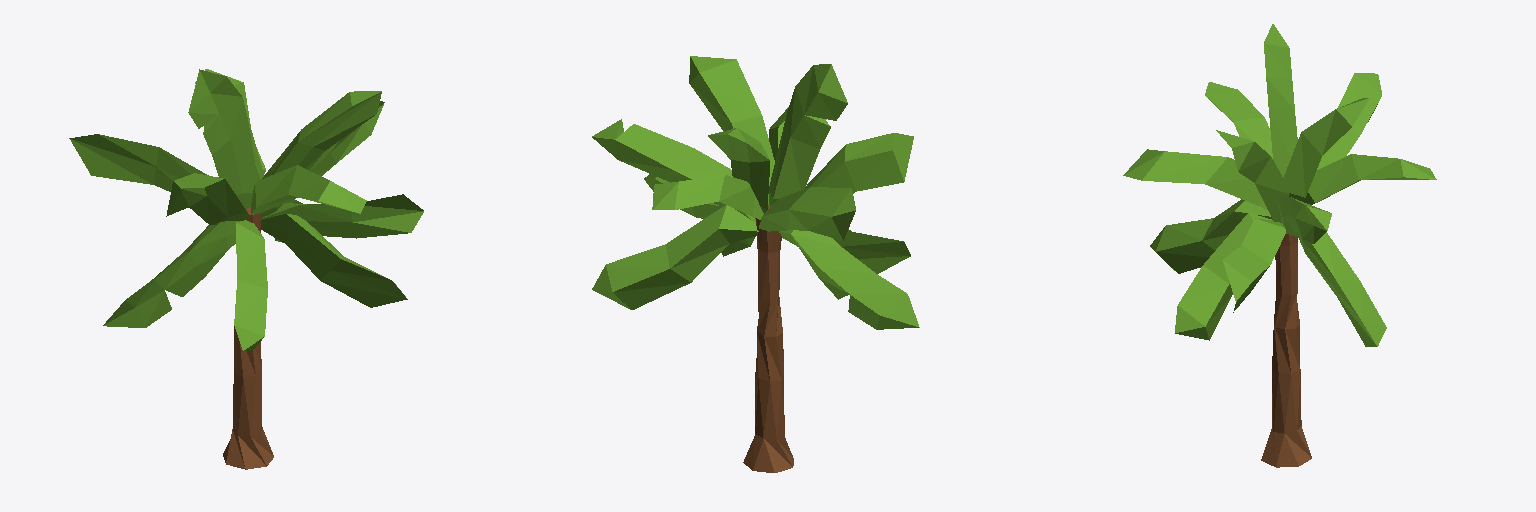
The model's file is palm_round__2_.obj.
The picture shows the model from 3 angles: view 1: azimuth 30°, elevation 25°; view 2: azimuth 150°, elevation 25°; view 3: azimuth 270°, elevation 25°; orthographic projection.
Parts seen in each view (by area): view 1: palm_round__2__Scene.009; view 2: palm_round__2__Scene.009; view 3: palm_round__2__Scene.009.
Boxes of the visible parts, <box> form: palm_round__2__Scene.009: <box>69,69,423,469</box>; palm_round__2__Scene.009: <box>592,56,919,472</box>; palm_round__2__Scene.009: <box>1123,24,1436,467</box>.
Bounding box in the file's own units: 4.92 × 6.28 × 4.38.